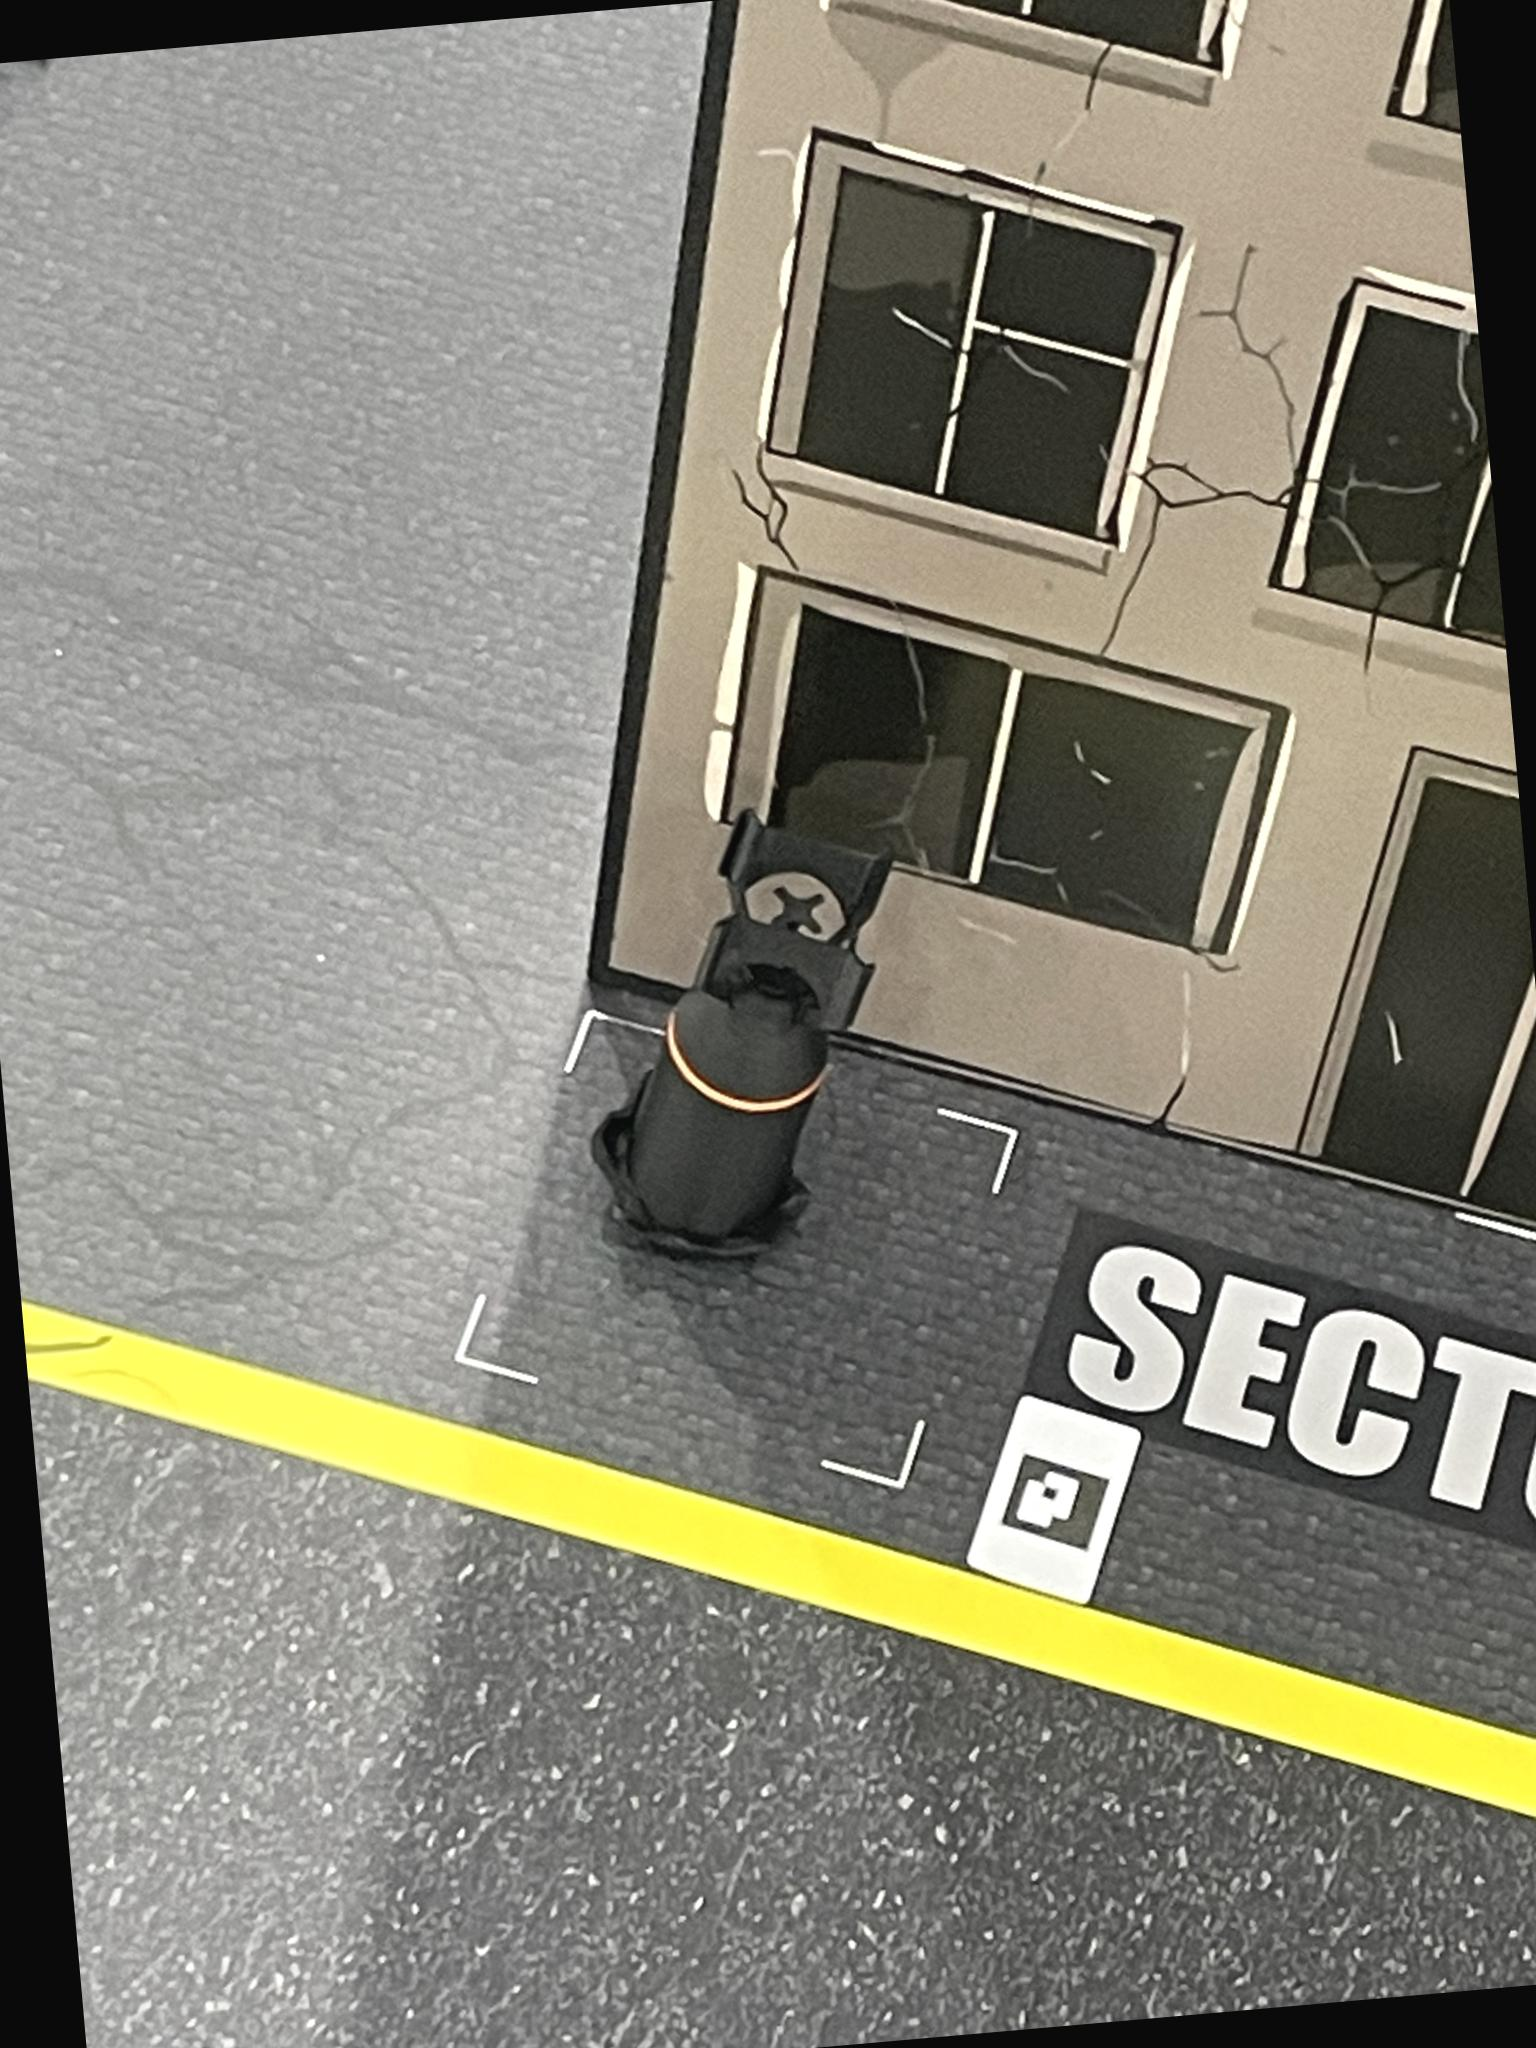Tank: (553, 792, 929, 1285)
